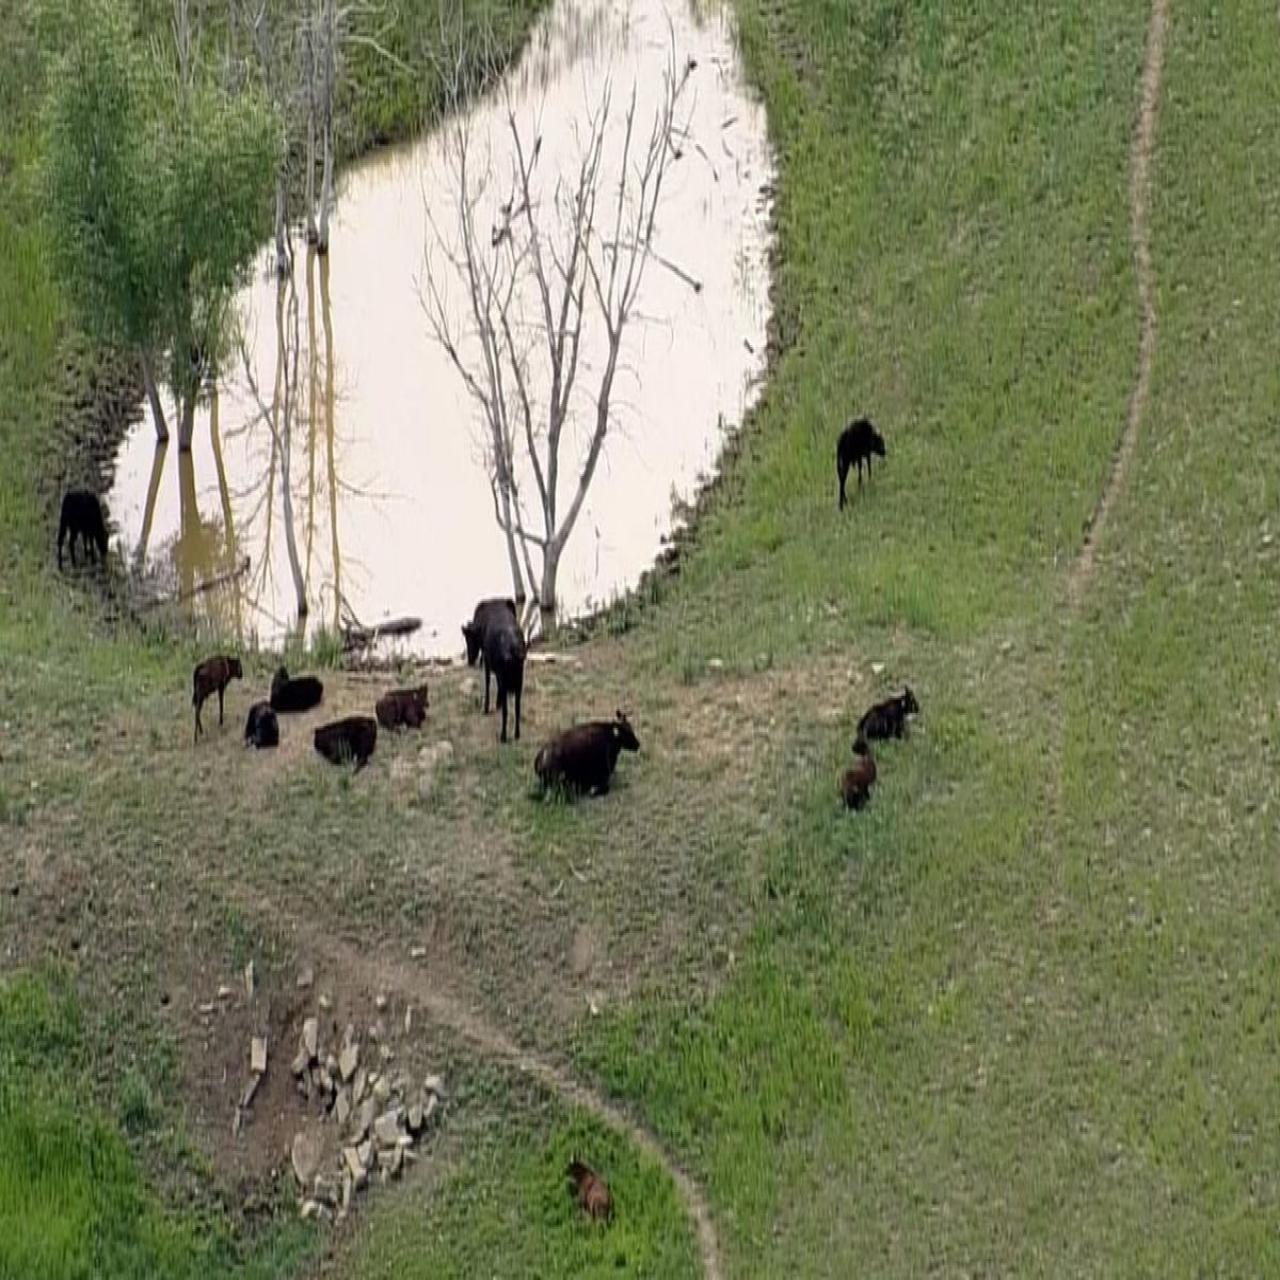cow: (531, 708, 642, 812), (461, 594, 531, 743), (38, 465, 121, 583), (188, 647, 245, 742), (858, 675, 927, 754), (832, 415, 885, 516), (302, 703, 374, 770), (261, 645, 331, 707), (838, 729, 879, 818), (372, 674, 436, 729), (241, 700, 285, 758)
